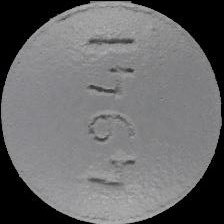53808-0938: (0, 0, 224, 224)
